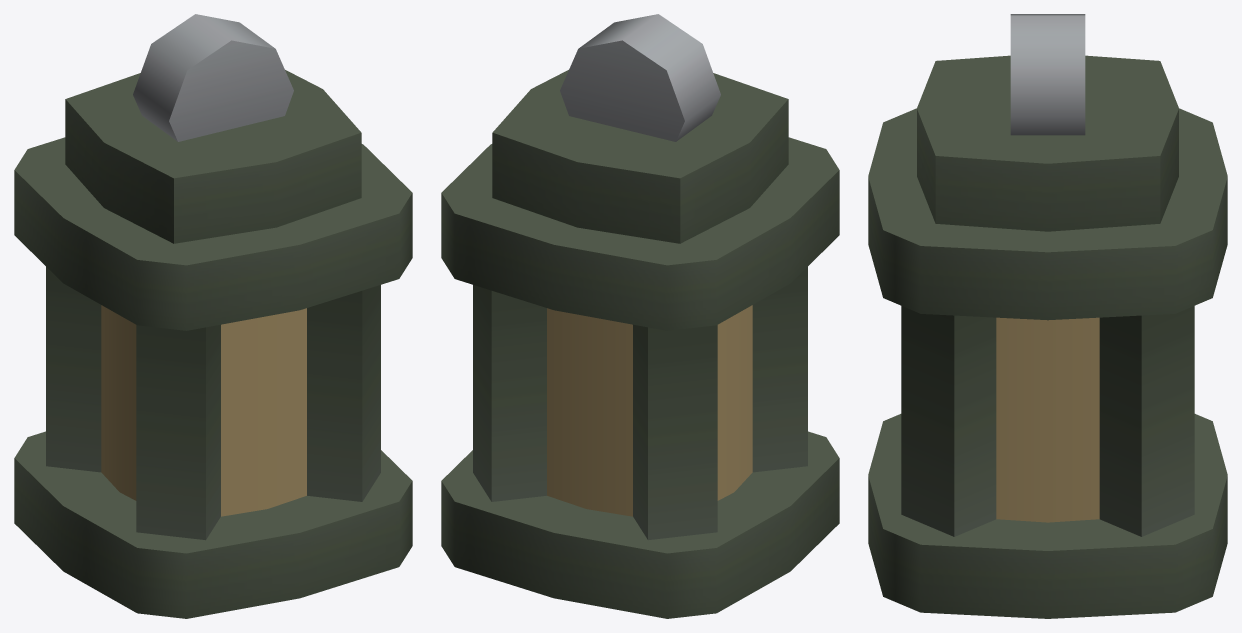
File: lantern-glass.glb
3 renders of one model, left to right at view 1: azimuth 30°, elevation 25°; view 2: azimuth 150°, elevation 25°; view 3: azimuth 270°, elevation 25°, orthographic. The views are drawn at different scales.
Visible parts, largest first — view 1: lantern-glass; view 2: lantern-glass; view 3: lantern-glass.
Part boxes in pixels (x1=…): lantern-glass: x1=14, y1=14, x2=412, y2=618; lantern-glass: x1=441, y1=14, x2=839, y2=618; lantern-glass: x1=868, y1=14, x2=1227, y2=618.
Bounding box in the file's own units: 0.36 × 0.5815 × 0.36.
1 material, 1 textured.
